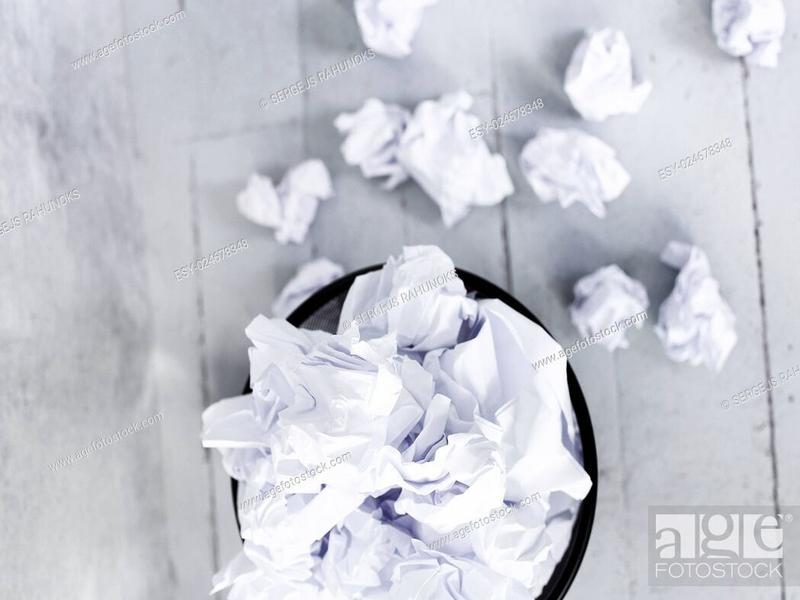paper: (189, 320, 433, 545), (396, 87, 522, 230), (332, 243, 484, 356), (650, 235, 747, 374), (518, 122, 634, 224), (555, 19, 660, 124), (230, 156, 344, 247), (557, 260, 652, 359), (702, 1, 793, 74)
